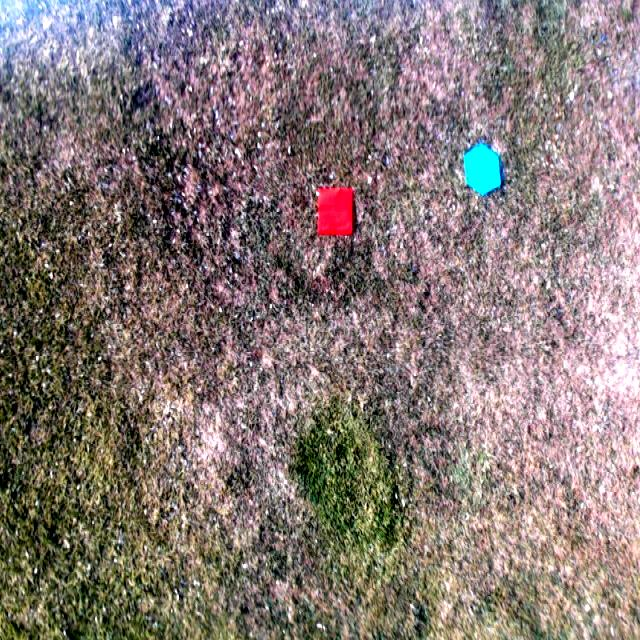blue_hexagon: (465, 144, 501, 196)
red_square: (318, 187, 354, 236)
